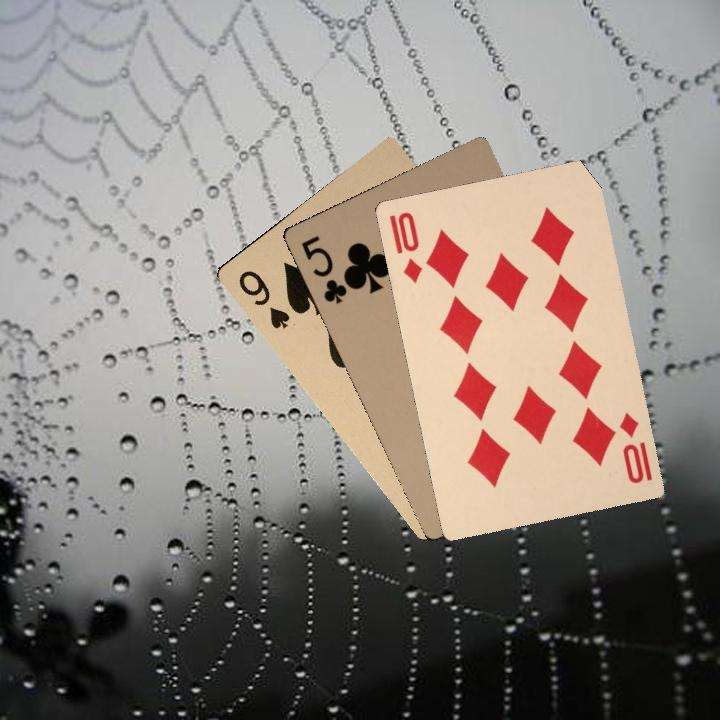10d: (385, 207, 425, 286), (616, 409, 655, 486)
5c: (297, 231, 355, 307)
9s: (234, 266, 293, 332)
